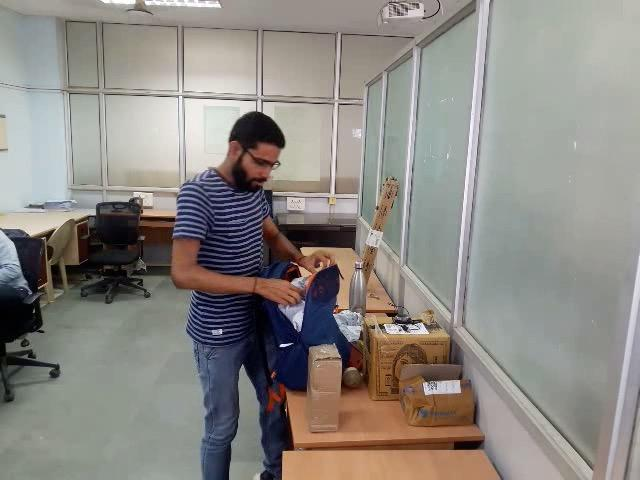shoplifting: (171, 245, 397, 374)
